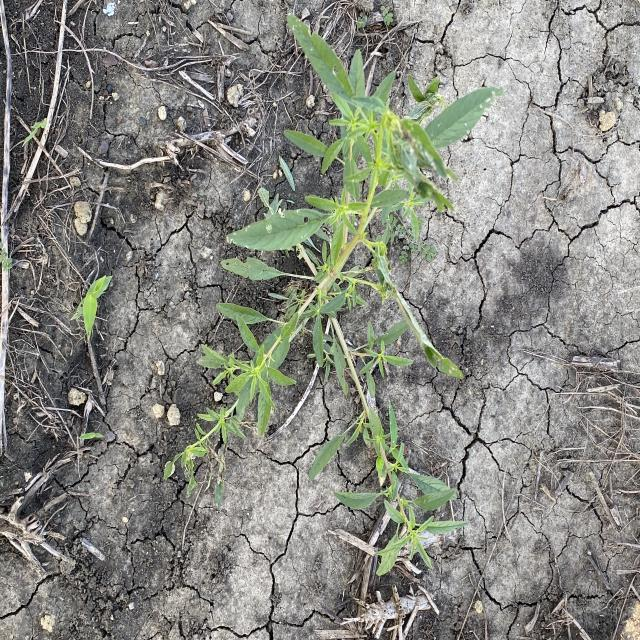SpottedSpurge: (0, 242, 13, 270)
Waterhemp: (161, 12, 507, 578)
